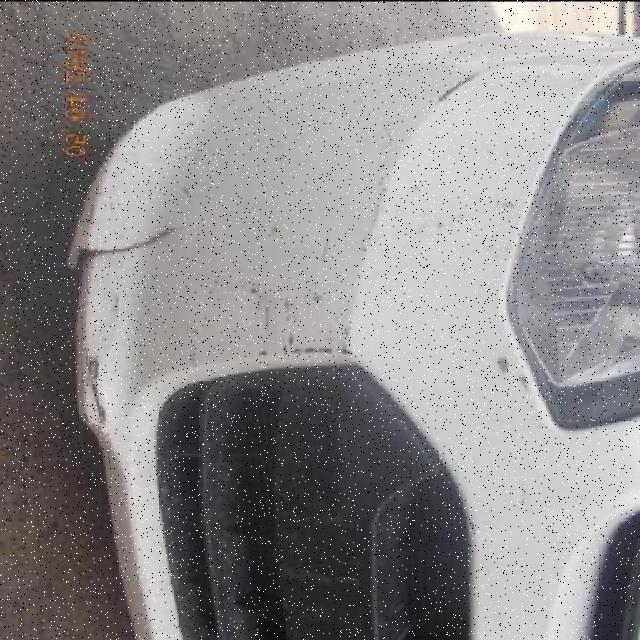damage: (199, 269, 330, 328), (65, 221, 181, 273), (77, 339, 118, 439), (248, 337, 356, 359), (493, 347, 539, 397), (426, 68, 485, 103)
